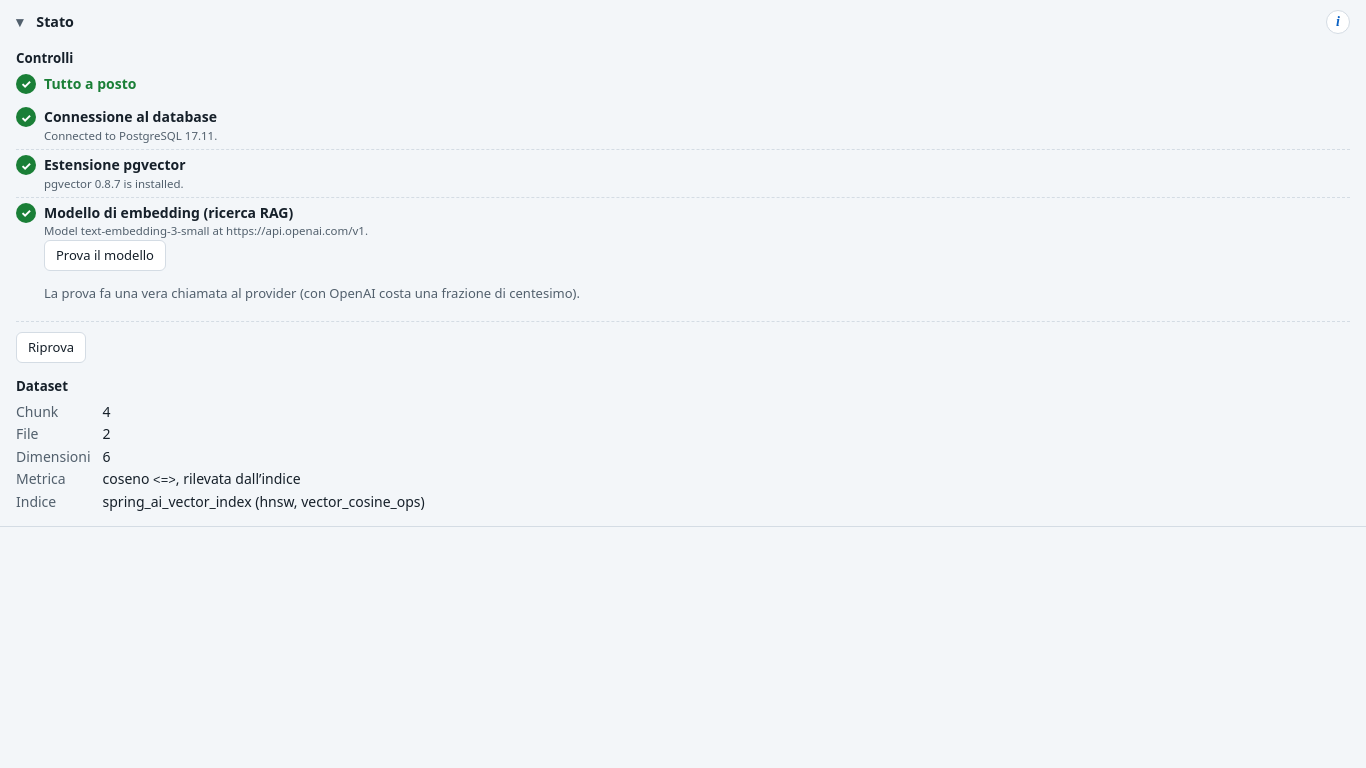
Test case: embedding live test › warns when the provider answers with another dimension
The image size is (1366, 768).
Click the button "Prova il modello": (105, 256) left=44, top=240, right=166, bottom=271
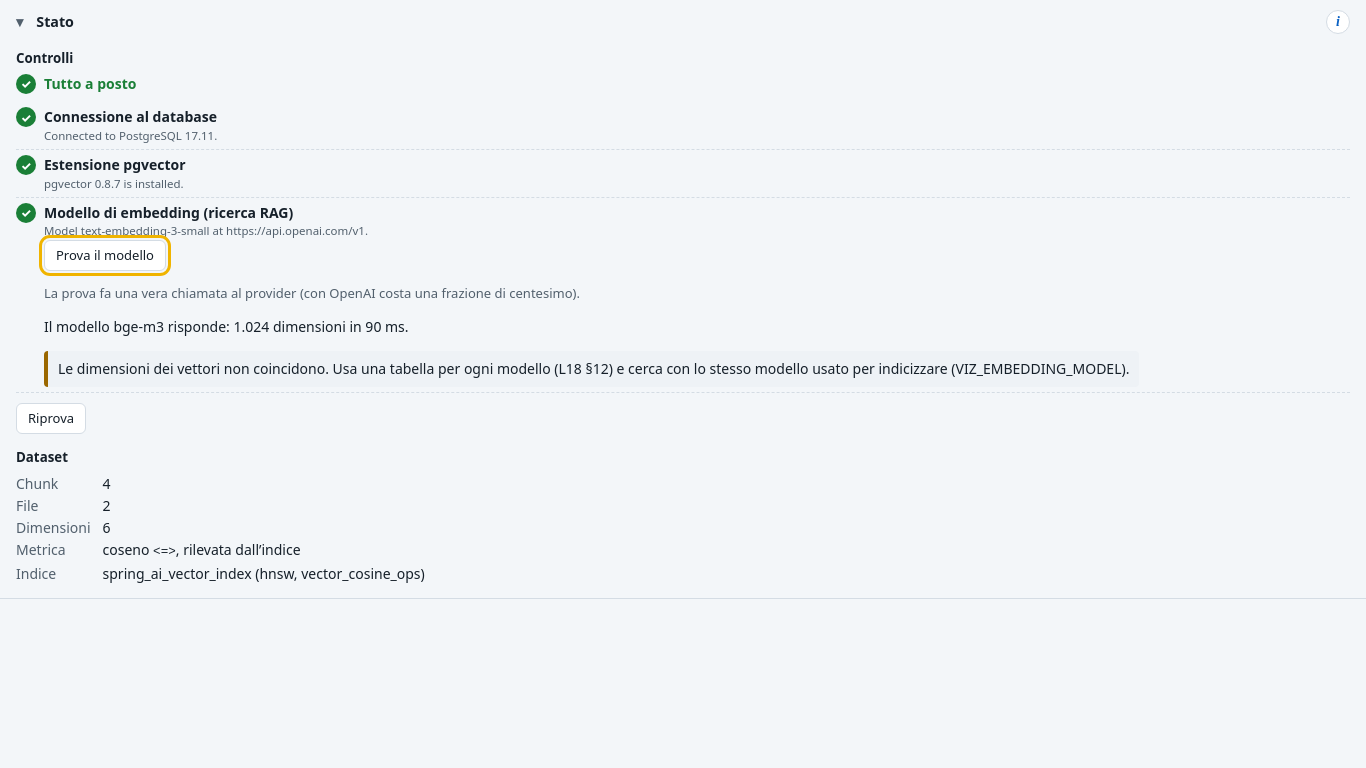
Result: the text "Le dimensioni dei vettori non coincidono." is shown at left=58, top=359, right=329, bottom=378
